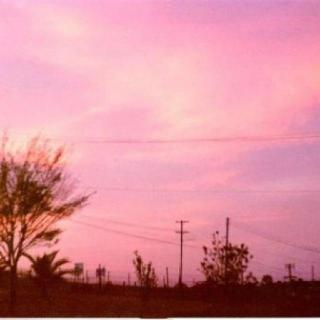Cirrostratus: (45, 124, 320, 262)
